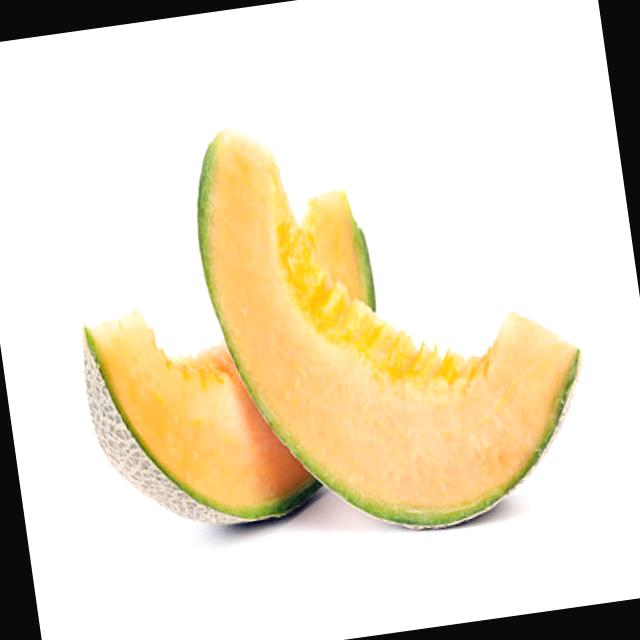cantaloupe: (184, 82, 604, 558)
